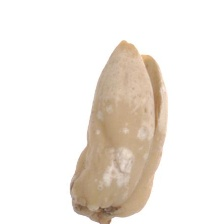L1: (121, 38, 164, 108), (69, 200, 120, 224)
L2: (69, 41, 169, 224)
